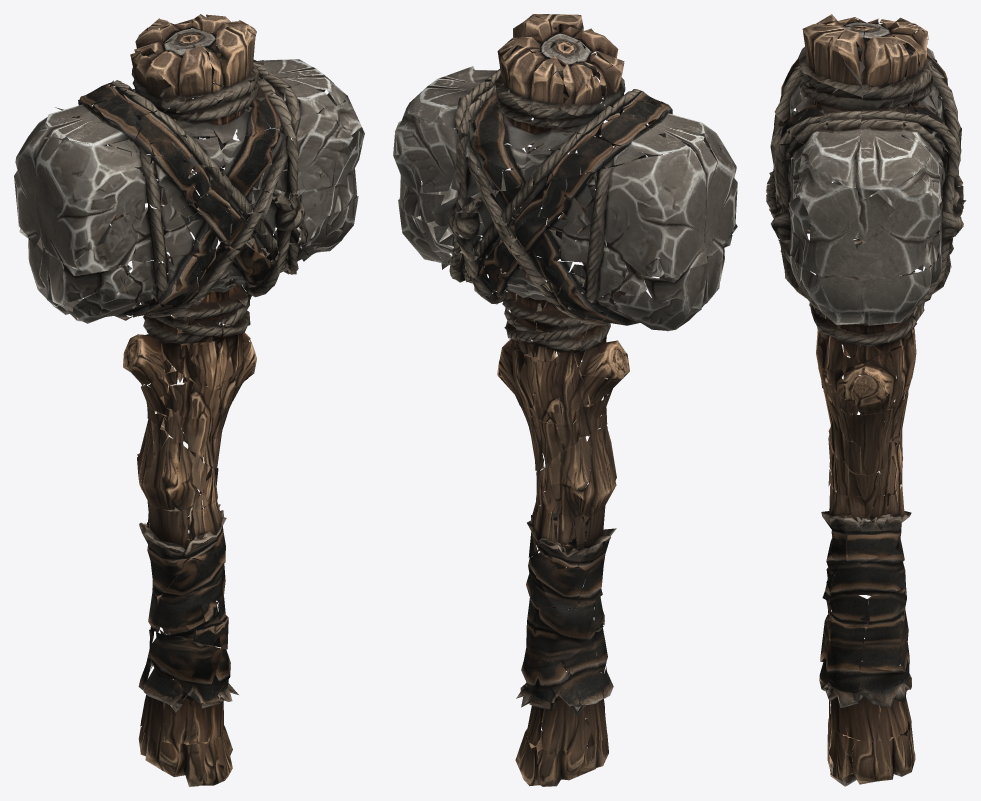
File: TepegozClub.fbx
3 views of the same model, side by side, from view 1: azimuth 30°, elevation 25°; view 2: azimuth 150°, elevation 25°; view 3: azimuth 270°, elevation 25° (orthographic).
Parts seen in each view (by area): view 1: TepegozClub; view 2: TepegozClub; view 3: TepegozClub.
Part boxes in pixels (box(x1,y1,x2,y2)): TepegozClub: box(14, 14, 364, 786); TepegozClub: box(393, 14, 737, 786); TepegozClub: box(766, 14, 966, 786).
Bounding box in the file's own units: 0.9987 × 2.4 × 0.5746.
1 material, 1 textured.
